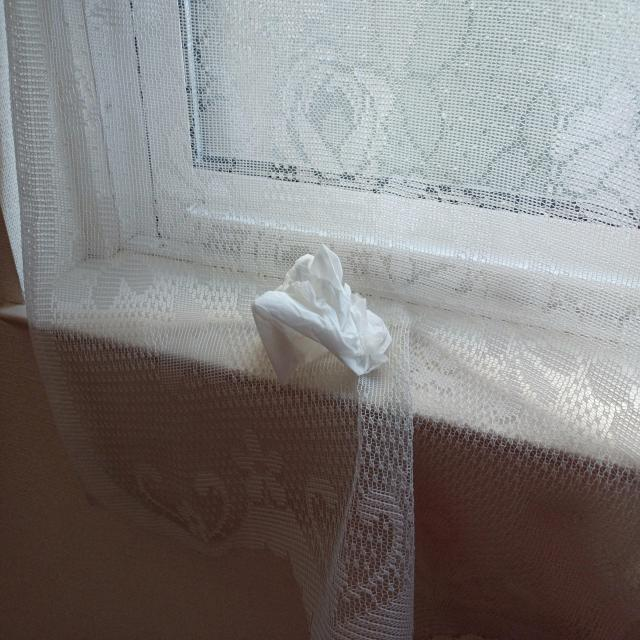Paper: (246, 238, 406, 428)
